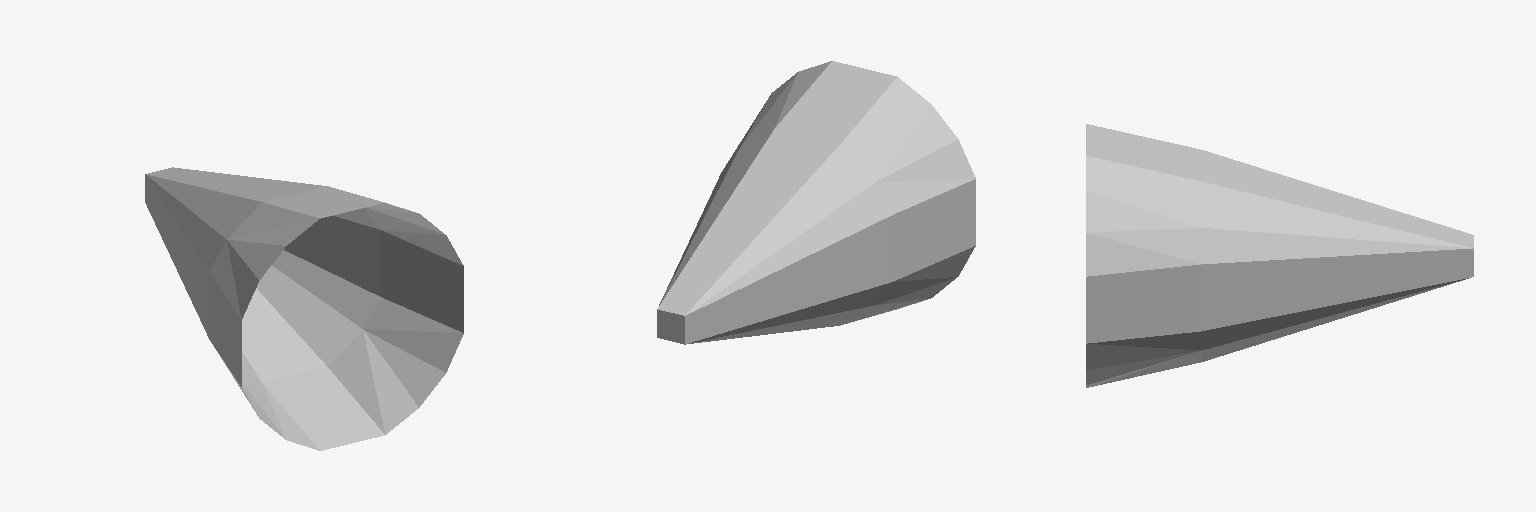
File: DreadnoughtBackCone.obj
3 views of the same model, side by side, from view 1: azimuth 30°, elevation 25°; view 2: azimuth 150°, elevation 25°; view 3: azimuth 270°, elevation 25° (orthographic).
Visible parts, largest first — view 1: Cylinder; view 2: Cylinder; view 3: Cylinder.
Boxes of the visible parts, <box> form: Cylinder: <box>145,167,463,450</box>; Cylinder: <box>657,61,975,344</box>; Cylinder: <box>1086,124,1473,387</box>.
Size of the model in its own units: 24.52 by 24.52 by 37.04.